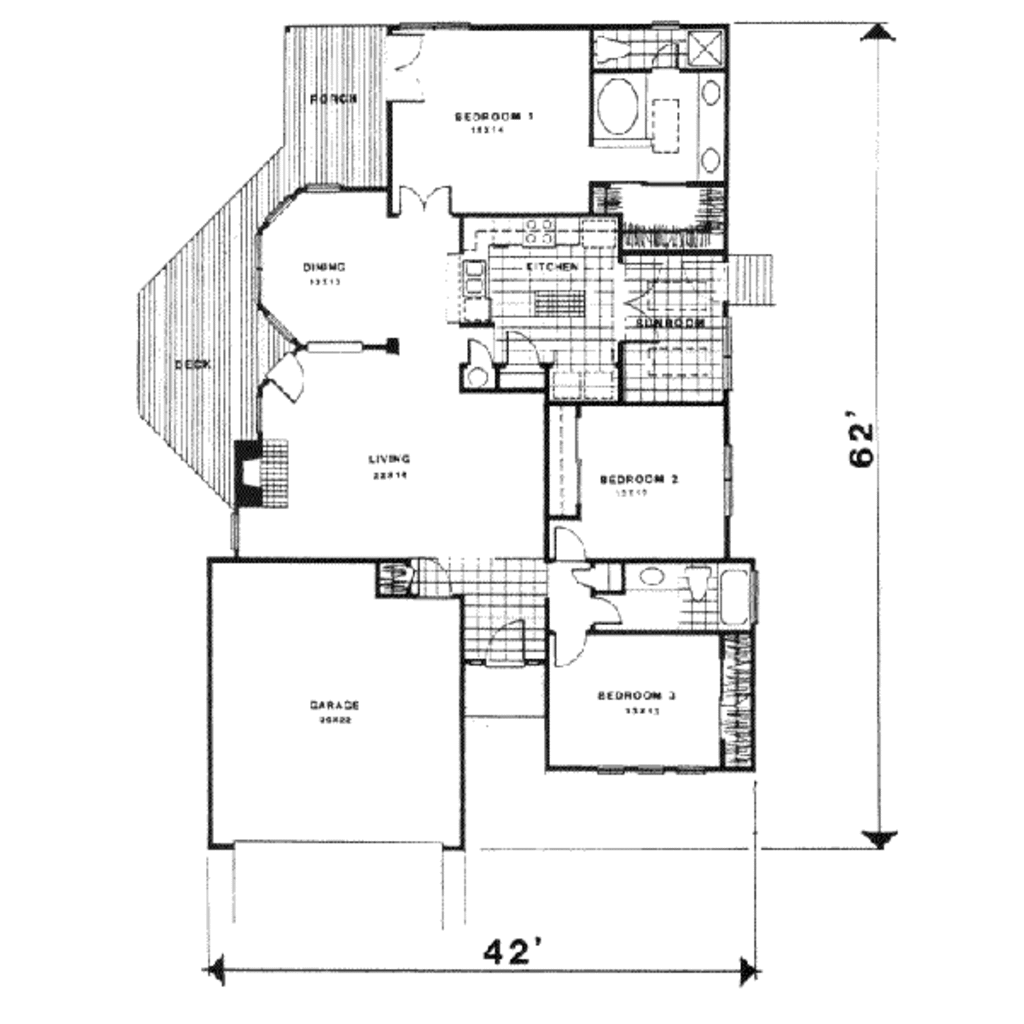door: (386, 35, 435, 108), (255, 352, 309, 413), (473, 621, 534, 665), (548, 515, 599, 567), (392, 183, 466, 213), (498, 325, 547, 370), (545, 627, 590, 668), (565, 561, 606, 594), (587, 593, 623, 628), (463, 332, 494, 364)
large_sink: (682, 556, 716, 603), (596, 26, 632, 66)
small_sink: (698, 71, 731, 185), (627, 558, 689, 594)
tub: (588, 64, 641, 148), (721, 563, 759, 632)
twin_sink: (454, 252, 501, 302)
window: (718, 440, 738, 530), (222, 503, 251, 562)
